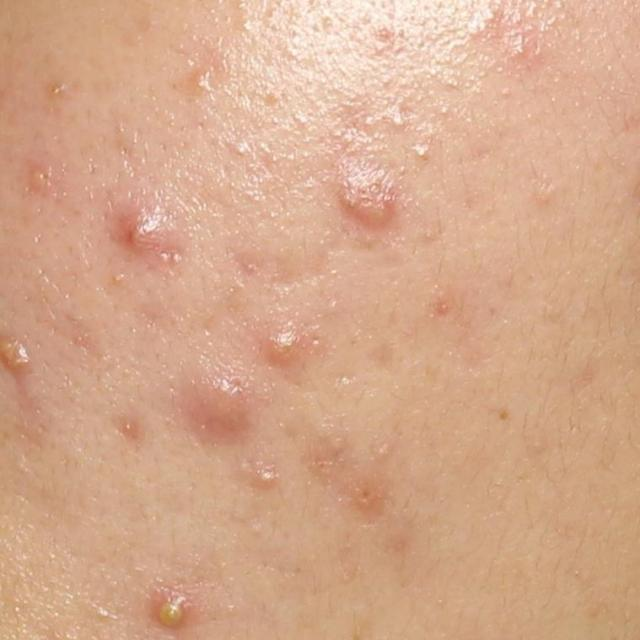nodule: (179, 366, 269, 449), (116, 200, 193, 269), (328, 162, 400, 235), (255, 316, 317, 379)
